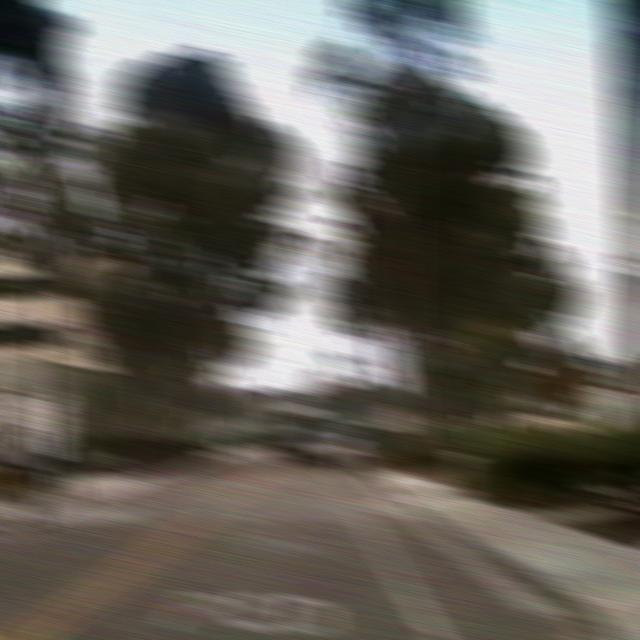pedestrianCrossing: (540, 340, 588, 413)
